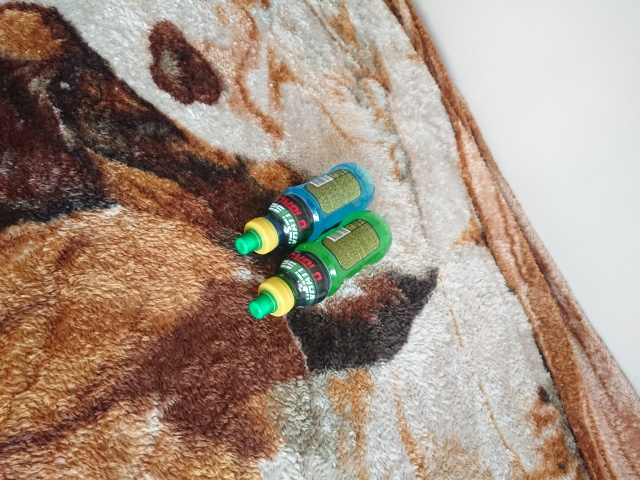Vindi Iso Sport Forest Strawberries 500mL: (233, 159, 379, 258)
Vindi Iso Sport Lemon-Grapefruit 500mL: (246, 207, 395, 323)
